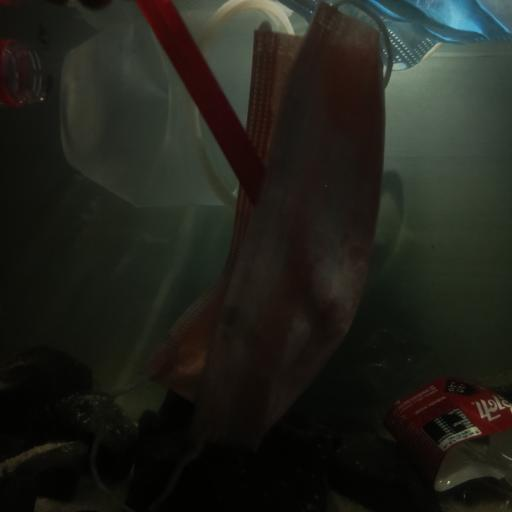mask: (143, 7, 383, 437), (346, 0, 512, 67)
plastic_bottle: (370, 345, 512, 512)
plastic_cup: (66, 2, 293, 206)
plastic_straw: (144, 4, 265, 195)
